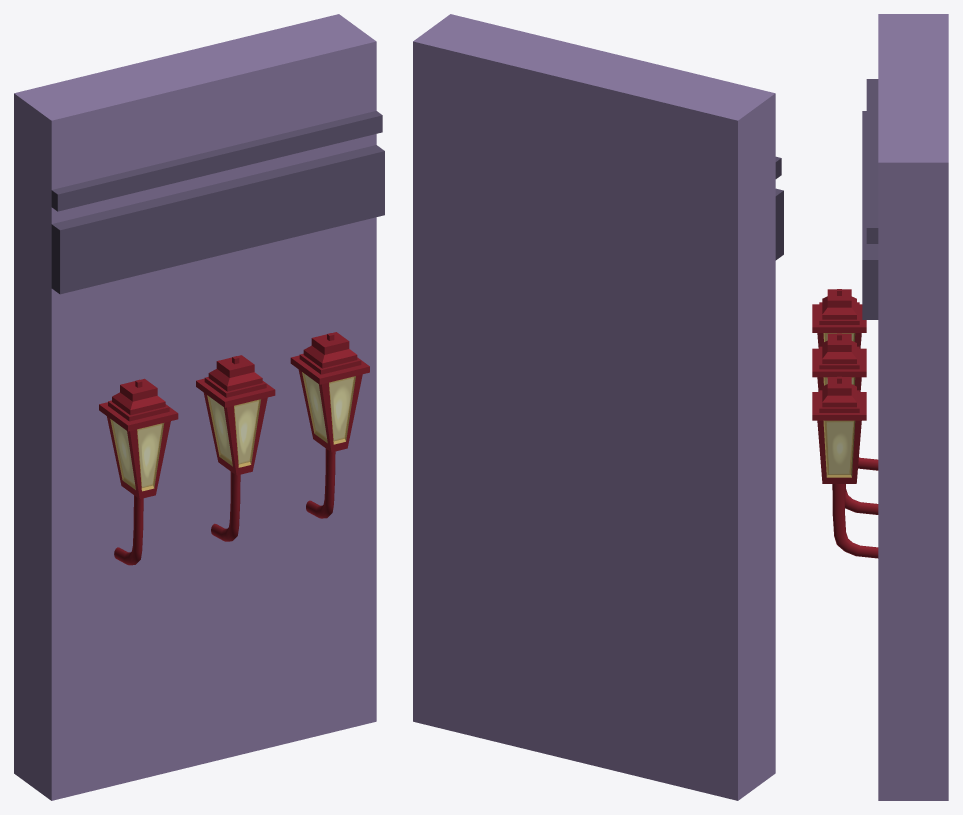
File: Pared_petit.fbx
3 renders of one model, left to right at view 1: azimuth 30°, elevation 25°; view 2: azimuth 150°, elevation 25°; view 3: azimuth 270°, elevation 25°, orthographic. The views are drawn at different scales.
Parts seen in each view (by area): view 1: Pared Petit; view 2: Pared Petit; view 3: Pared Petit.
Part boxes in pixels (<box>): Pared Petit: <box>14,14,384,800</box>; Pared Petit: <box>413,14,783,800</box>; Pared Petit: <box>812,14,948,800</box>.
Size of the model in its own units: 500 by 1000 by 194.
Materials: 4 (4 with a texture image).
